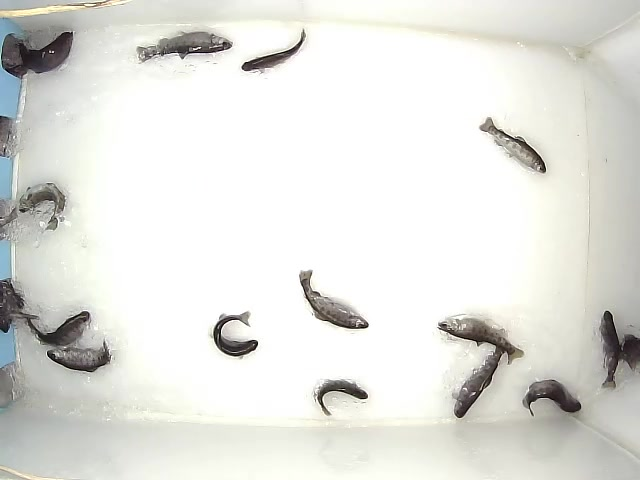fish: (436, 314, 525, 367), (452, 338, 509, 419), (298, 269, 369, 331), (478, 116, 548, 175), (134, 30, 234, 63), (240, 27, 307, 74), (18, 31, 75, 76), (209, 309, 259, 360), (520, 379, 582, 419), (25, 310, 92, 347), (18, 182, 66, 232), (46, 339, 112, 374), (316, 378, 369, 417), (599, 310, 623, 391)
